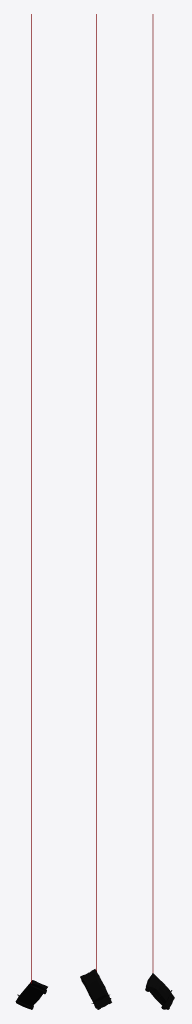
Rendered from car.glb.
3 views of the same model, side by side, from view 1: azimuth 30°, elevation 25°; view 2: azimuth 210°, elevation 25°; view 3: azimuth 270°, elevation 25° (orthographic).
Parts seen in each view (by area): view 1: Cube.002, Cube.001; view 2: Cube.002, Cube.001; view 3: Cube.002, Cube.001.
Boxes of the visible parts, x1,y1,x2,y2 form: Cube.002: (31, 14, 31, 983); Cube.001: (15, 980, 47, 1008); Cube.002: (96, 14, 96, 971); Cube.001: (80, 969, 111, 1009); Cube.002: (152, 14, 153, 972); Cube.001: (146, 973, 174, 1009).
Size of the model in its own units: 2.61 by 124 by 3.37.
